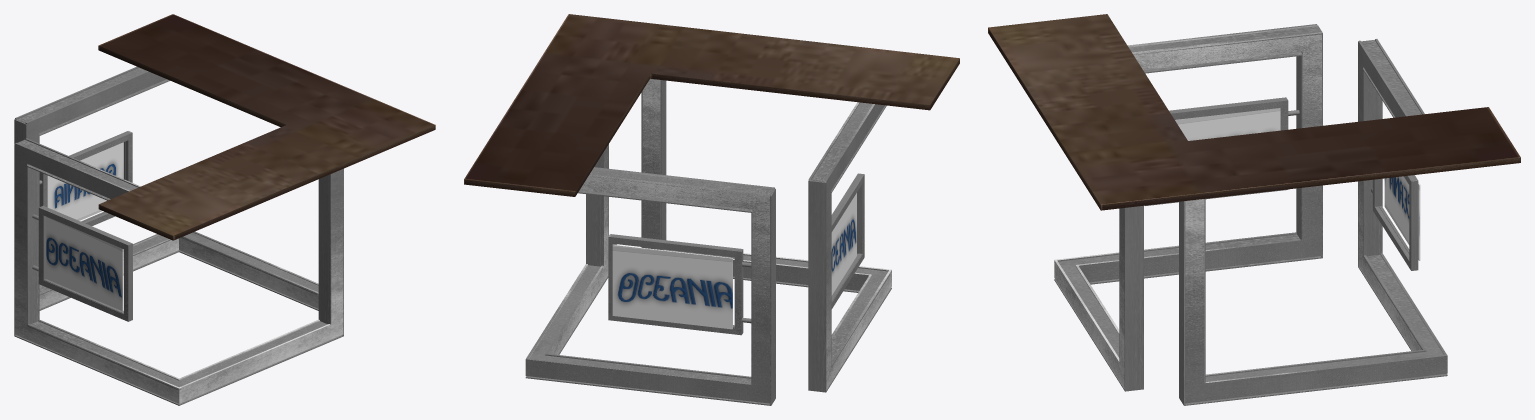
File: inicio.obj
3 renders of one model, left to right at view 1: azimuth 30°, elevation 25°; view 2: azimuth 150°, elevation 25°; view 3: azimuth 270°, elevation 25°, orthographic. The views are drawn at different scales.
Parts seen in each view (by area): view 1: tvs:News_Desk_3_1, tvs:News_Desk_3_7, tvs:News_Desk_3_5, tvs:News_Desk_3_2, tvs:News_Desk_3_6, tvs:News_Desk_3_4, tvs:News_Desk_3_3; view 2: tvs:News_Desk_3_1, tvs:News_Desk_3_7, tvs:News_Desk_3_5, tvs:News_Desk_3_2, tvs:News_Desk_3_6, tvs:News_Desk_3_4, tvs:News_Desk_3_3; view 3: tvs:News_Desk_3_1, tvs:News_Desk_3_7, tvs:News_Desk_3_5, tvs:News_Desk_3_6, tvs:News_Desk_3_2, tvs:News_Desk_3_4.
Part boxes in pixels (bbox=[...]): tvs:News_Desk_3_1: bbox=[98, 14, 435, 240]; tvs:News_Desk_3_7: bbox=[15, 66, 343, 403]; tvs:News_Desk_3_5: bbox=[14, 72, 343, 405]; tvs:News_Desk_3_2: bbox=[46, 142, 123, 311]; tvs:News_Desk_3_6: bbox=[17, 67, 327, 387]; tvs:News_Desk_3_4: bbox=[32, 131, 132, 321]; tvs:News_Desk_3_3: bbox=[43, 141, 125, 313]; tvs:News_Desk_3_1: bbox=[464, 14, 959, 196]; tvs:News_Desk_3_7: bbox=[525, 78, 891, 403]; tvs:News_Desk_3_5: bbox=[525, 80, 891, 405]; tvs:News_Desk_3_2: bbox=[612, 193, 856, 329]; tvs:News_Desk_3_6: bbox=[529, 102, 888, 383]; tvs:News_Desk_3_4: bbox=[608, 173, 864, 335]; tvs:News_Desk_3_3: bbox=[615, 184, 862, 327]; tvs:News_Desk_3_1: bbox=[988, 14, 1520, 210]; tvs:News_Desk_3_7: bbox=[1054, 24, 1447, 403]; tvs:News_Desk_3_5: bbox=[1054, 25, 1447, 405]; tvs:News_Desk_3_6: bbox=[1058, 26, 1443, 381]; tvs:News_Desk_3_2: bbox=[1175, 108, 1420, 260]; tvs:News_Desk_3_4: bbox=[1145, 97, 1418, 270].
Size of the model in its own units: 3.36 by 1.91 by 3.95.
4 materials, 4 textured.
